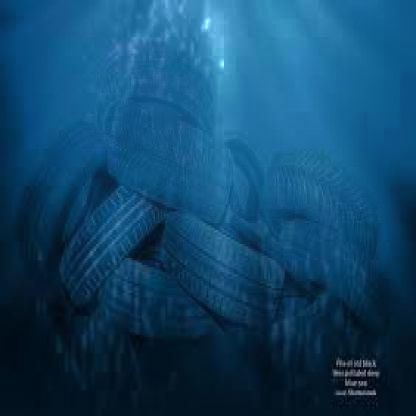tire: (161, 216, 301, 363), (118, 93, 248, 228), (49, 167, 166, 304), (265, 119, 384, 251), (97, 258, 193, 353)
